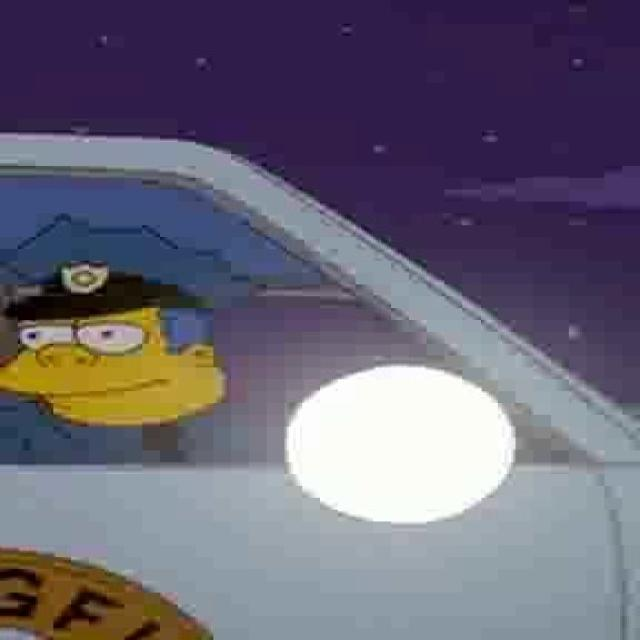Chief Wiggam: (0, 211, 271, 429)
